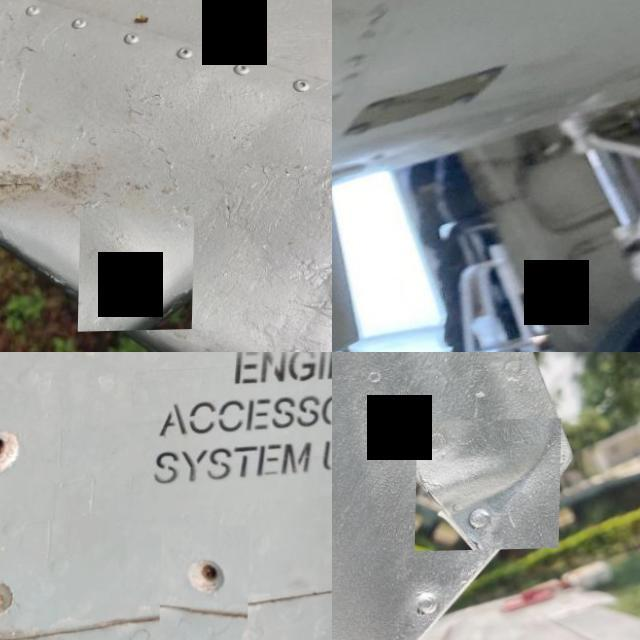Dent: (416, 420, 563, 552), (80, 208, 196, 333)
Missing_Fastener: (162, 528, 252, 629), (0, 405, 47, 503)
